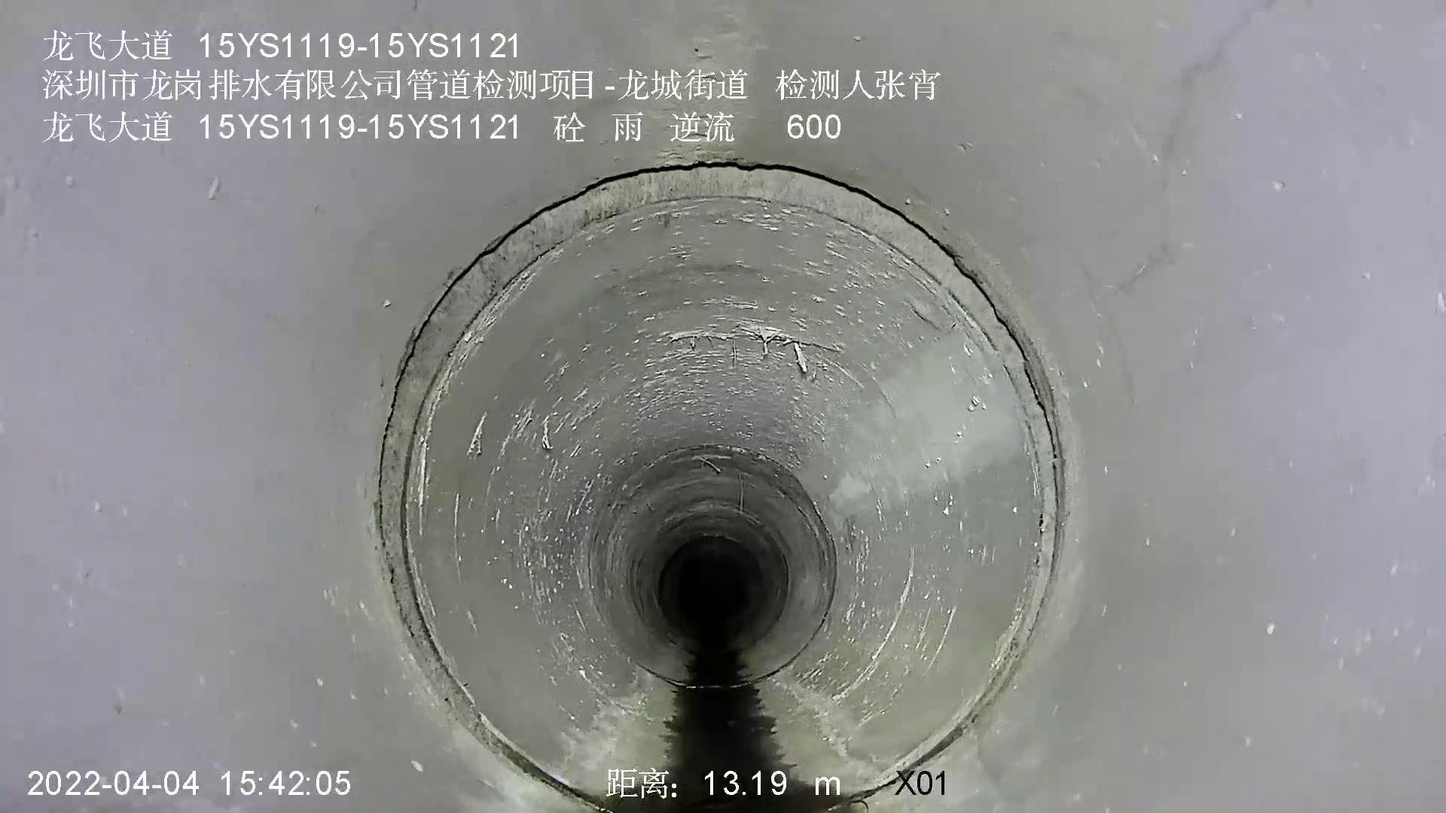CKTJ: (374, 162, 1067, 809)
